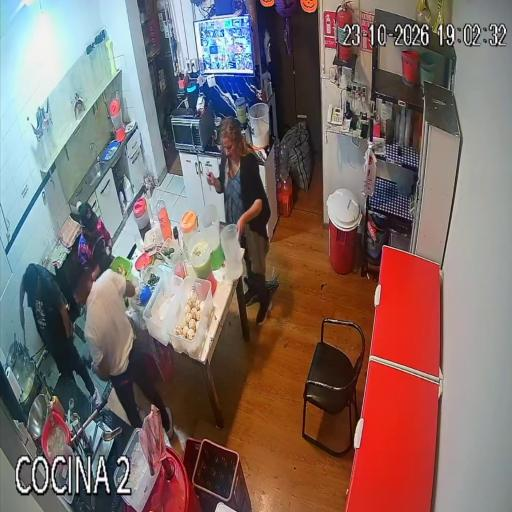Balde: (249, 102, 270, 148)
Envase Llajua: (52, 395, 64, 419)
Jarra1: (133, 197, 150, 238)
Jarra2: (180, 210, 197, 245)
Jarra3: (188, 232, 217, 294)
Jarra4: (199, 205, 225, 270)
Jarra5: (221, 224, 243, 279)
Licuadora: (213, 117, 223, 147)
Licuadora2: (235, 97, 252, 146)
Microondas: (171, 105, 214, 151)
Persona1: (20, 264, 98, 398)
Persona2: (207, 117, 271, 324)
Persona3: (75, 253, 173, 440)
Persona5: (78, 202, 112, 265)
Taper: (110, 256, 132, 278)
Taper2: (129, 265, 154, 328)
Taper3: (143, 273, 182, 345)
Taper4: (166, 277, 213, 357)
Taper5: (114, 429, 158, 512)
